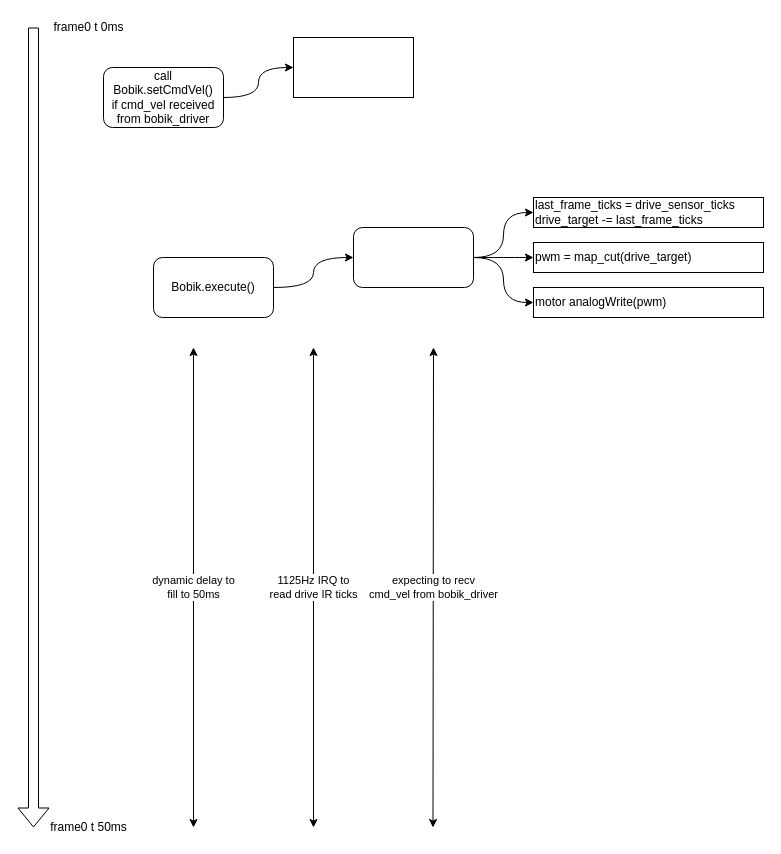
Image size: 781x854. Some labels were removed from this diagram. The shapes that lost their labels are listed below. From the top down, each one's centre as x and y in pixels, then its label:
At point (353, 67): "calculate and set targets for rotation and driver for all casters".
At point (413, 257): "Caster.execute()".
